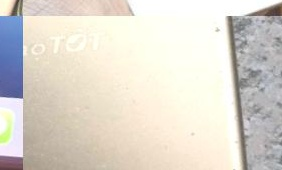scratch: (198, 120, 268, 170), (185, 16, 248, 67), (23, 126, 52, 170)
